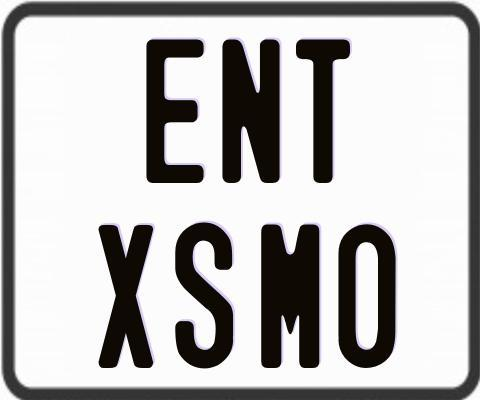0: (335, 223, 395, 372)
E: (146, 39, 206, 183)
M: (261, 224, 324, 369)
N: (221, 38, 280, 184)
S: (174, 219, 238, 367)
T: (296, 38, 353, 187)
X: (97, 223, 154, 366)
